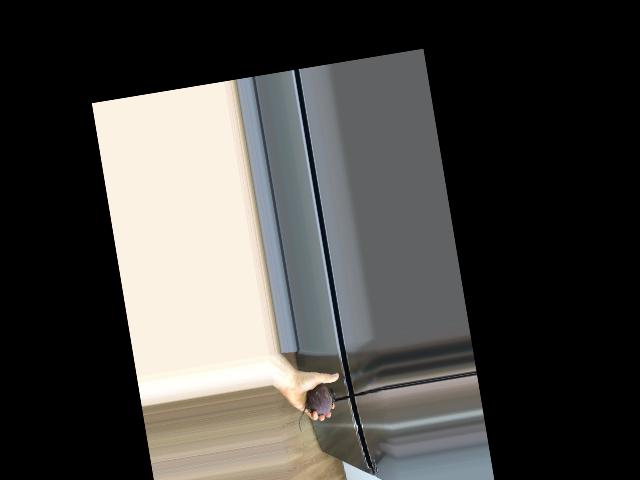beet: (293, 382, 340, 432)
